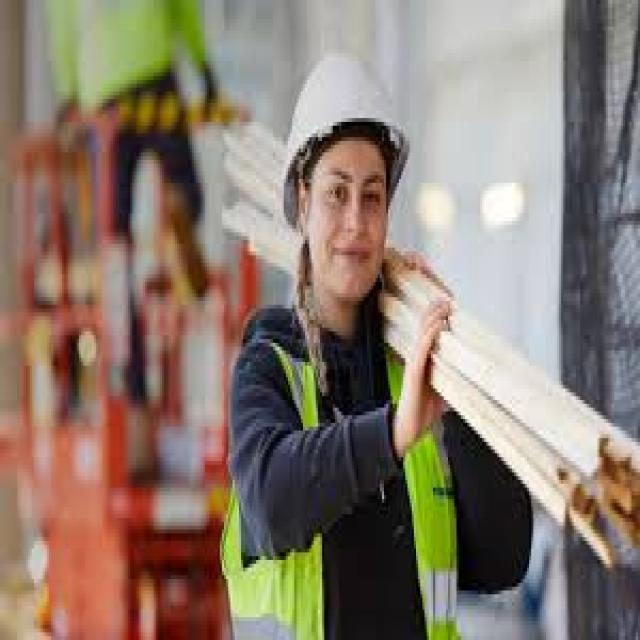Reflective-Jacket: (218, 290, 469, 636)
Safety-Helmet: (269, 46, 420, 202)
